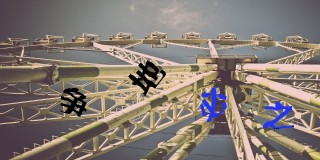之: (264, 101, 293, 129)
争: (57, 87, 88, 117)
地: (127, 60, 167, 96)
必: (199, 88, 228, 122)
